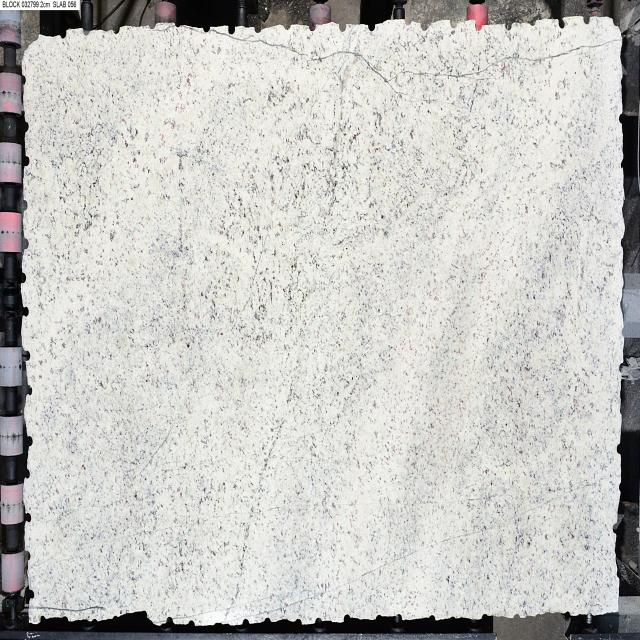chapa: (22, 15, 627, 635)
furo: (20, 26, 44, 68)
veio: (160, 610, 178, 629), (20, 302, 32, 320), (20, 73, 30, 93), (22, 150, 32, 170), (23, 346, 33, 366), (610, 516, 620, 536), (25, 384, 37, 400), (22, 118, 32, 136), (18, 268, 28, 286), (26, 431, 35, 451), (24, 510, 34, 528), (615, 440, 625, 457), (238, 614, 250, 628), (481, 610, 493, 624), (22, 238, 32, 254), (188, 616, 198, 632), (394, 610, 404, 625), (22, 198, 31, 214), (27, 582, 35, 600), (342, 612, 354, 624), (615, 359, 624, 375), (428, 610, 438, 624), (24, 470, 34, 482), (38, 612, 48, 624), (24, 549, 32, 563)
